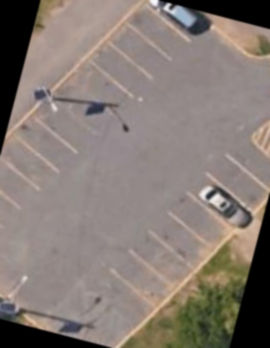parkingspot: (0, 0, 218, 241), (103, 128, 270, 314)
